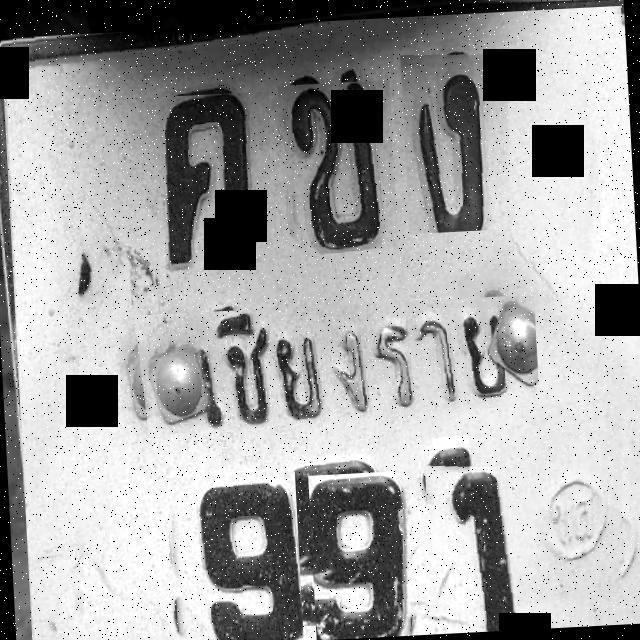letters: (146, 91, 280, 286), (165, 472, 304, 640), (277, 80, 398, 258), (401, 50, 516, 234), (308, 470, 421, 640), (424, 462, 518, 634)
license-plate: (2, 6, 630, 640)
province: (135, 294, 541, 436)
